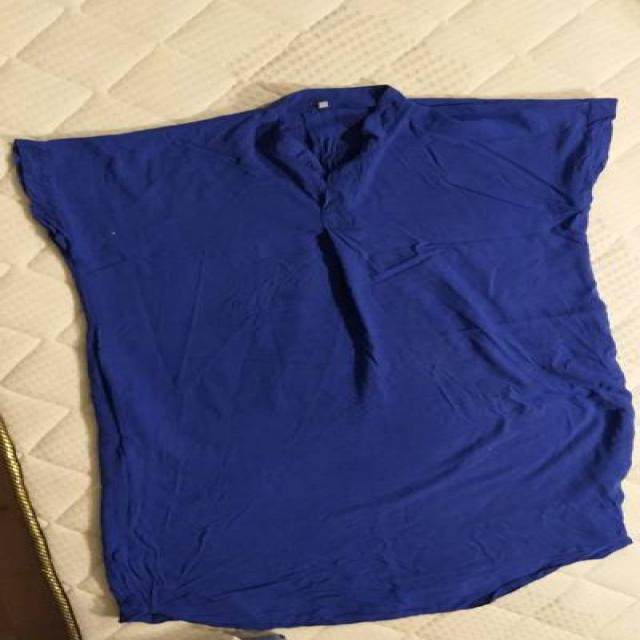Clothes -Biodegradable-: (7, 81, 632, 628)
